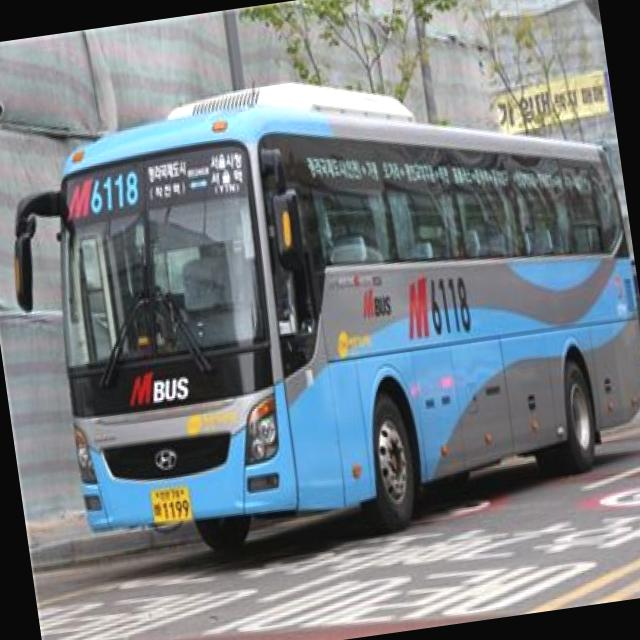bus-number: (85, 168, 143, 216)
